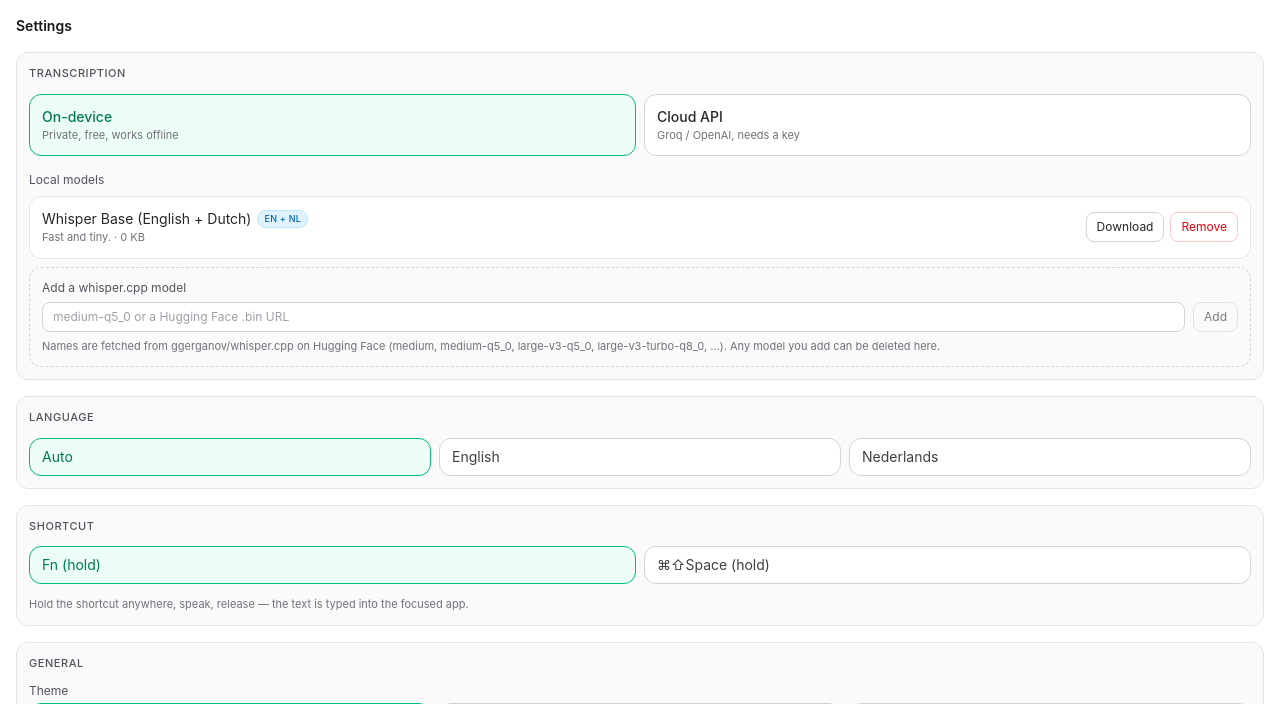
Test: Settings › removes an undownloaded catalog model from the list and can restore it
The image size is (1280, 704).
Click the button "Remove": click(1204, 227) [1170,212,1238,242]
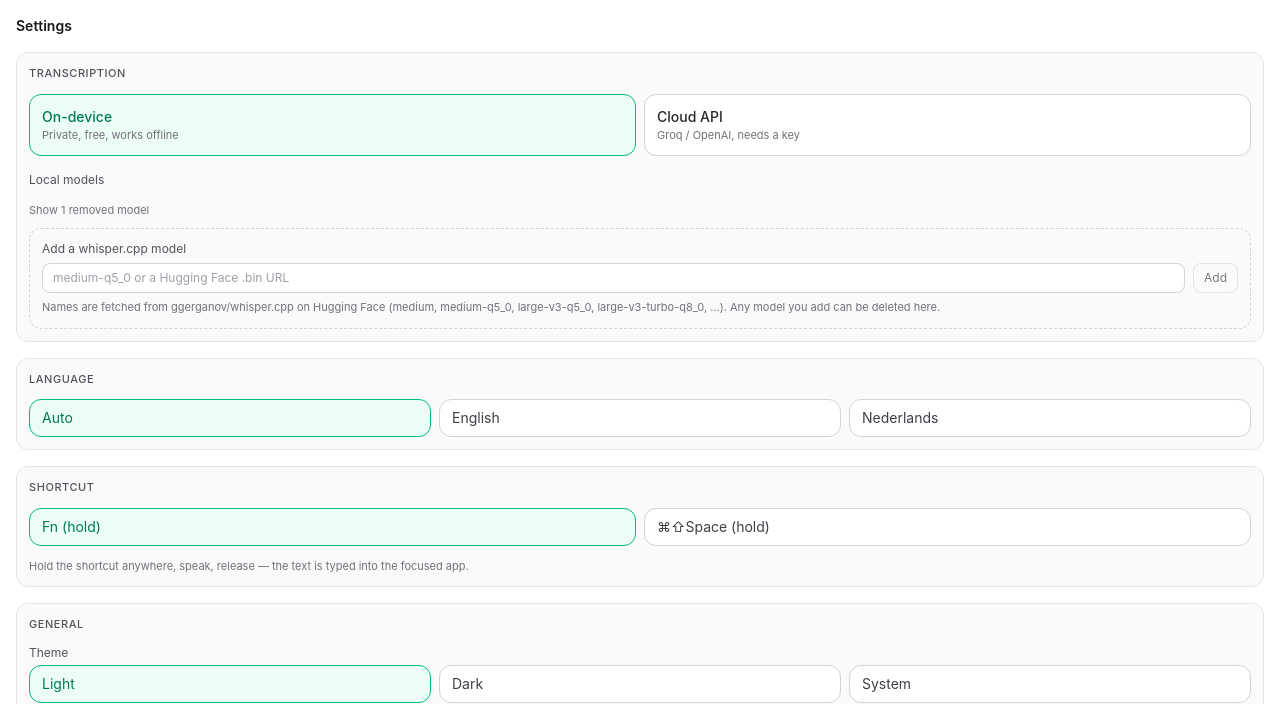
Now the button "Show 1 removed model" is shown
Now the button "Download" is gone
Click the button "Show 1 removed model": click(89, 210) [29,202,149,218]
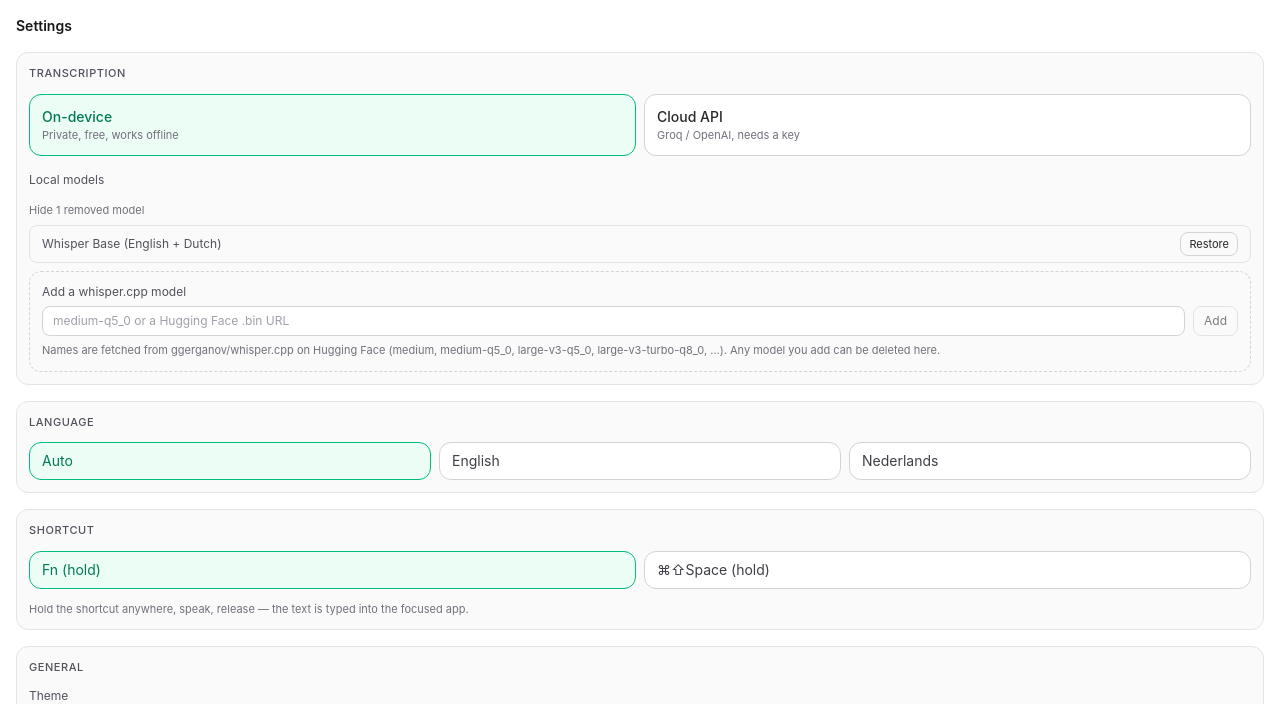
Click the button "Restore": click(1209, 244) [1180,232,1238,256]
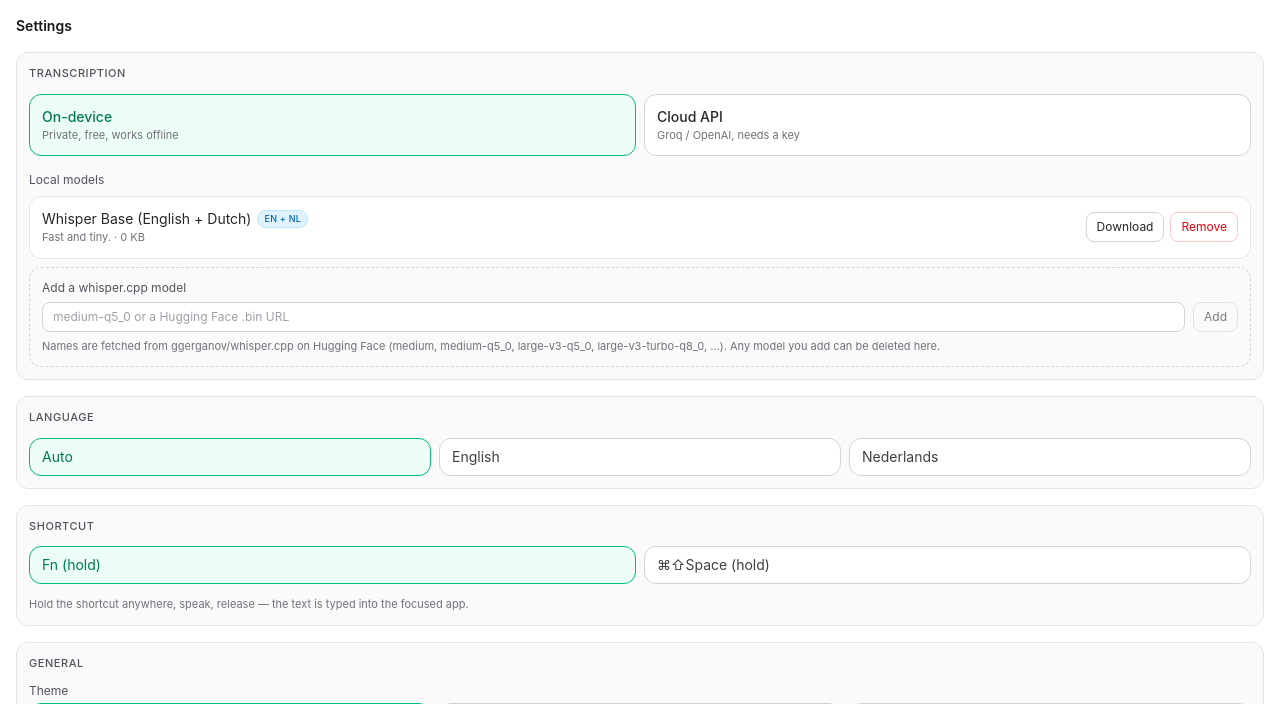
Now the button "Download" is shown, box [1086,212,1164,242]
